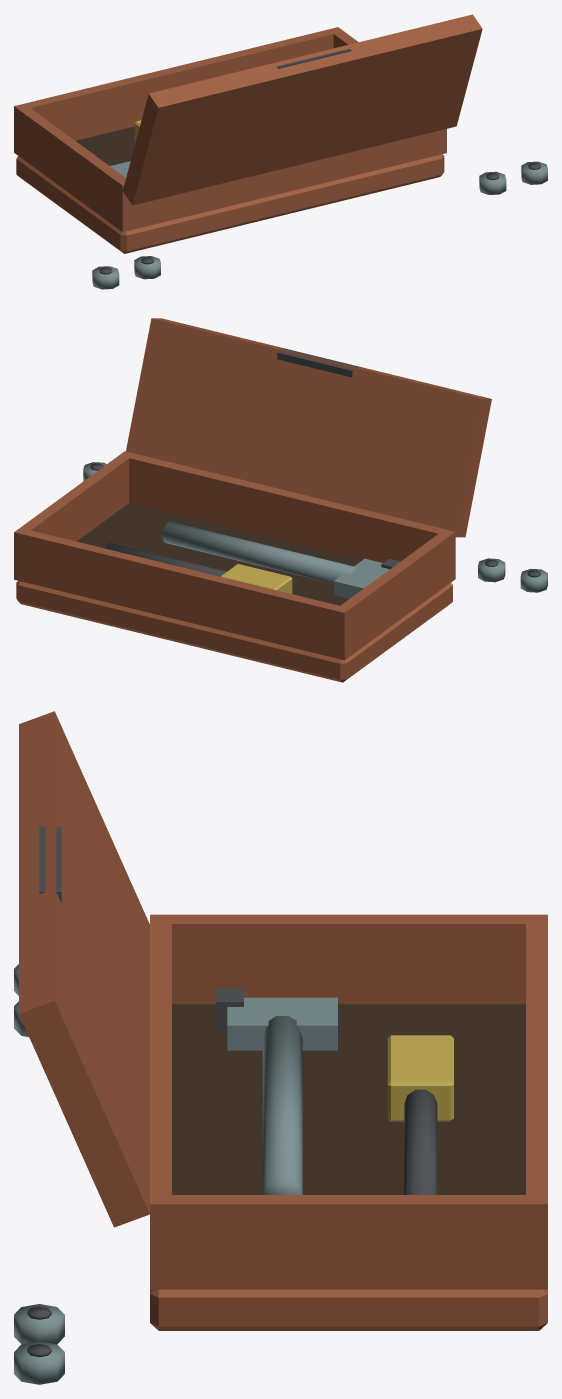
File: clutter_tools.glb
3 renders of one model, top to bottom at view 1: azimuth 30°, elevation 25°; view 2: azimuth 150°, elevation 25°; view 3: azimuth 270°, elevation 25°, orthographic. The views are drawn at different scales.
Visible parts, largest first — view 1: clutter_tools; view 2: clutter_tools; view 3: clutter_tools.
Boxes of the visible parts, bbox=[...] form: clutter_tools: bbox=[14, 14, 547, 289]; clutter_tools: bbox=[14, 318, 547, 682]; clutter_tools: bbox=[14, 711, 547, 1384].
Bounding box in the file's own units: 0.866 × 0.3333 × 0.483.
